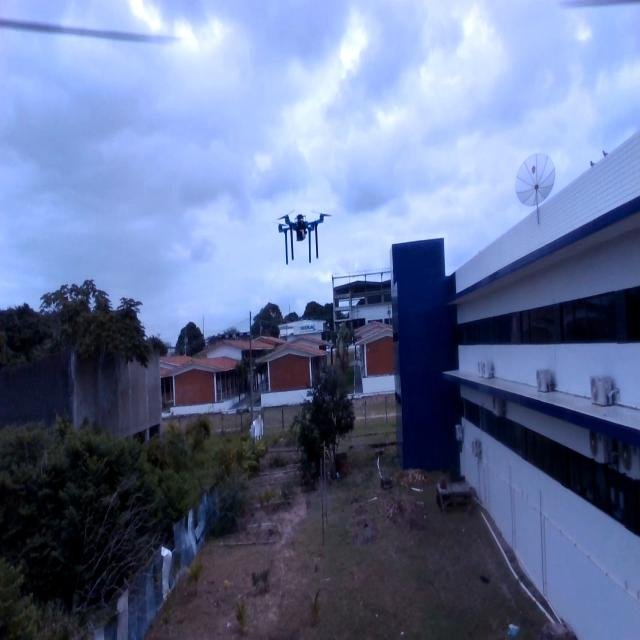-uav-: (273, 198, 337, 270)
